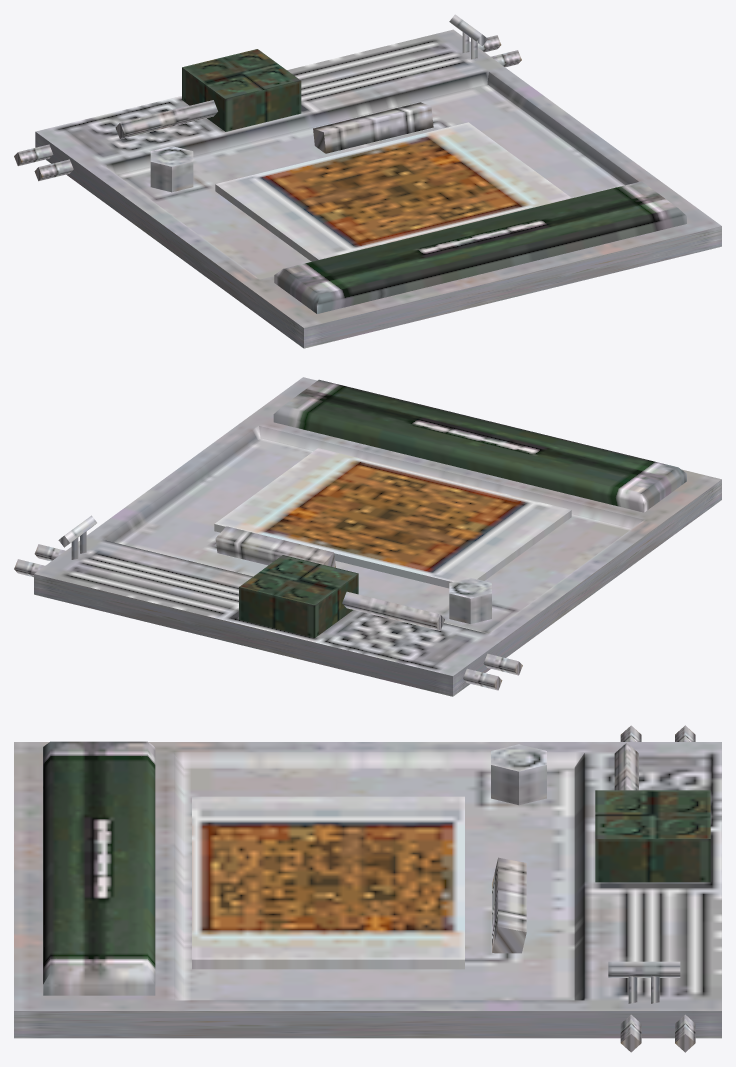
Rendered from eqp_tool_engineering_analysis_board_l0.fbx.
3 renders of one model, top to bottom at view 1: azimuth 30°, elevation 25°; view 2: azimuth 150°, elevation 25°; view 3: azimuth 270°, elevation 25°, orthographic. The views are drawn at different scales.
Parts seen in each view (by area): view 1: mesh_node; view 2: mesh_node; view 3: mesh_node.
Part boxes in pixels (<box>): mesh_node: <box>14,14,721,348</box>; mesh_node: <box>14,377,721,696</box>; mesh_node: <box>14,725,721,1052</box>.
Size of the model in its own units: 0.3055 by 0.0325 by 0.2962.
Materials: 1 (1 with a texture image).
